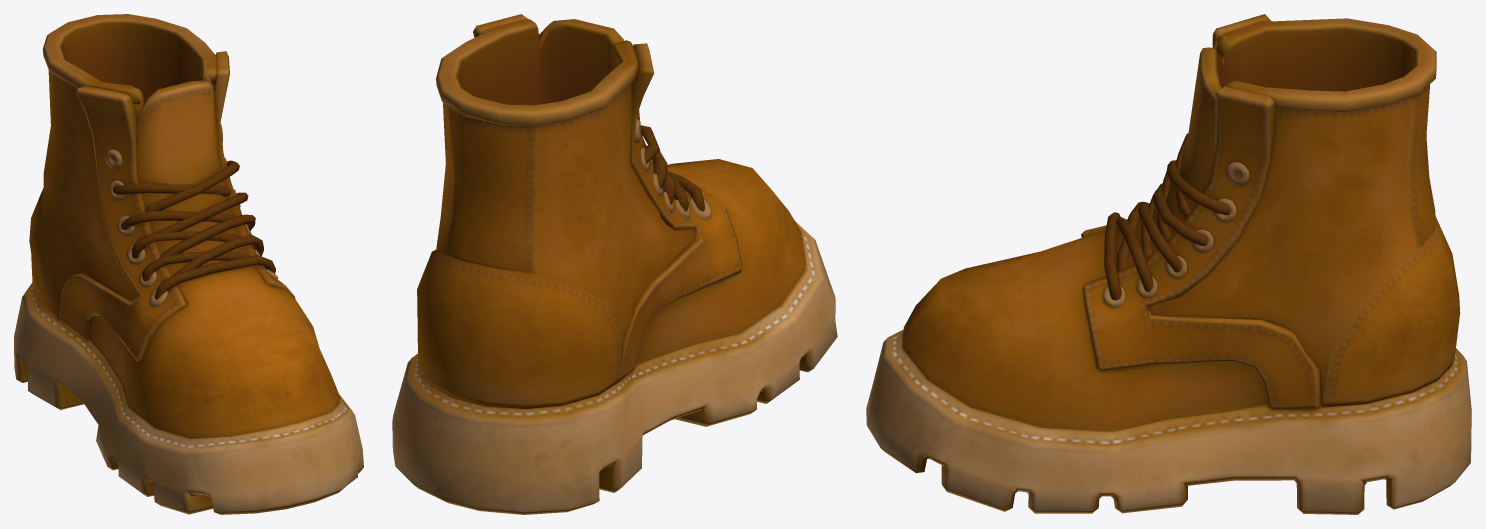
File: StackUp_Boots.fbx
The picture shows the model from 3 angles, left to right: view 1: azimuth 30°, elevation 25°; view 2: azimuth 150°, elevation 25°; view 3: azimuth 270°, elevation 25°; orthographic projection. The views are drawn at different scales.
Parts seen in each view (by area): view 1: StackUp_Boots; view 2: StackUp_Boots; view 3: StackUp_Boots.
Boxes of the visible parts, x1,y1,x2,y2 form: StackUp_Boots: (14, 14, 363, 514); StackUp_Boots: (392, 14, 837, 514); StackUp_Boots: (866, 14, 1471, 514).
Size of the model in its own units: 8.92 by 13.76 by 18.75.
